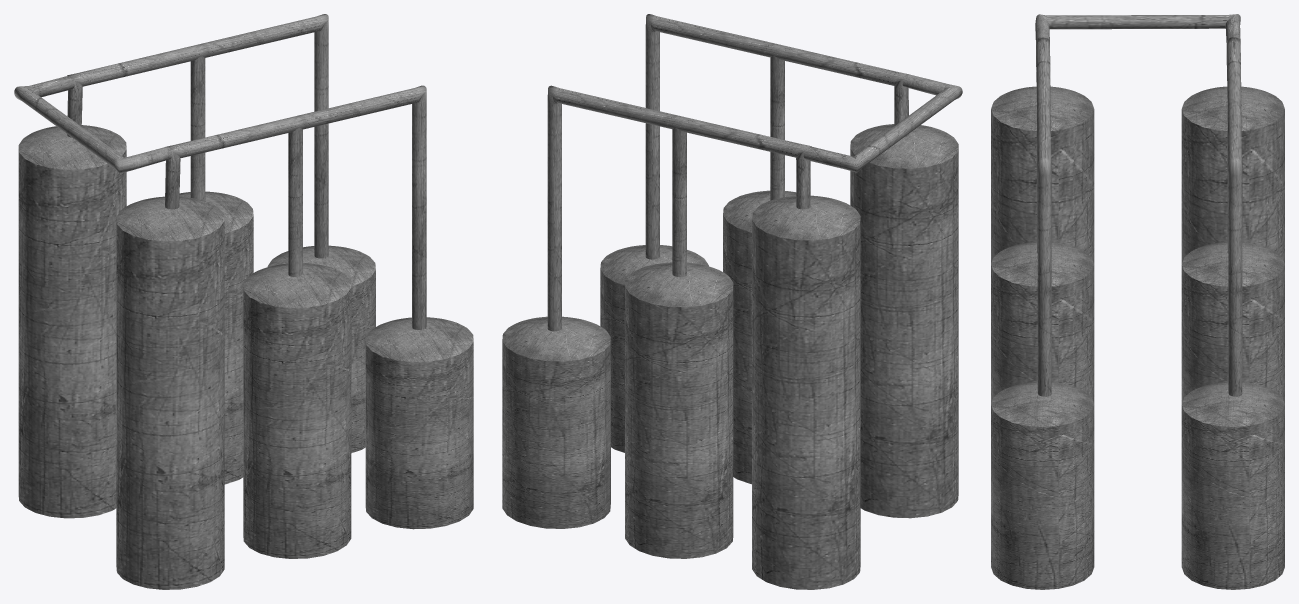
Rendered from Cuve2.fbx.
3 renders of one model, left to right at view 1: azimuth 30°, elevation 25°; view 2: azimuth 150°, elevation 25°; view 3: azimuth 270°, elevation 25°, orthographic. The views are drawn at different scales.
Parts seen in each view (by area): view 1: pCylinder4, pCylinder9, pCylinder3, pCylinder2, Cuve:pCylinder8, pCylinder10, pCylinder8, pCylinder7, pCylinder12, pCylinder5, pCylinder11; view 2: pCylinder9, pCylinder4, pCylinder8, pCylinder7, pCylinder10, Cuve:pCylinder8, pCylinder3, pCylinder2, pCylinder12, pCylinder11, pCylinder5; view 3: pCylinder2, pCylinder7, pCylinder9, pCylinder4, pCylinder3, pCylinder8, pCylinder10, Cuve:pCylinder8, pCylinder12.
Part boxes in pixels (x1,y1,x2,y2): pCylinder4: (116, 196, 224, 589); pCylinder9: (18, 125, 126, 518); pCylinder3: (243, 263, 351, 558); pCylinder2: (365, 317, 473, 529); Cuve:pCylinder8: (165, 85, 426, 329); pCylinder10: (67, 14, 328, 258); pCylinder8: (179, 191, 253, 484); pCylinder7: (267, 245, 375, 453); pCylinder12: (14, 76, 171, 173); pCylinder5: (288, 127, 302, 276); pCylinder11: (190, 56, 205, 200); pCylinder9: (752, 195, 860, 589); pCylinder4: (850, 124, 958, 518); pCylinder8: (625, 262, 733, 558); pCylinder7: (502, 316, 610, 528); pCylinder10: (547, 85, 811, 331); Cuve:pCylinder8: (645, 14, 908, 259); pCylinder3: (723, 190, 796, 484); pCylinder2: (600, 245, 708, 452); pCylinder12: (803, 74, 962, 172); pCylinder11: (672, 127, 686, 277); pCylinder5: (770, 55, 784, 200); pCylinder2: (991, 382, 1094, 589); pCylinder7: (1181, 382, 1284, 589); pCylinder9: (1181, 86, 1284, 263); pCylinder4: (991, 86, 1094, 263); pCylinder3: (991, 242, 1094, 403); pCylinder8: (1181, 242, 1284, 403); pCylinder10: (1226, 37, 1242, 396); Cuve:pCylinder8: (1036, 38, 1051, 396); pCylinder12: (1035, 14, 1240, 43).
Size of the model in its own units: 165 by 189 by 122.
